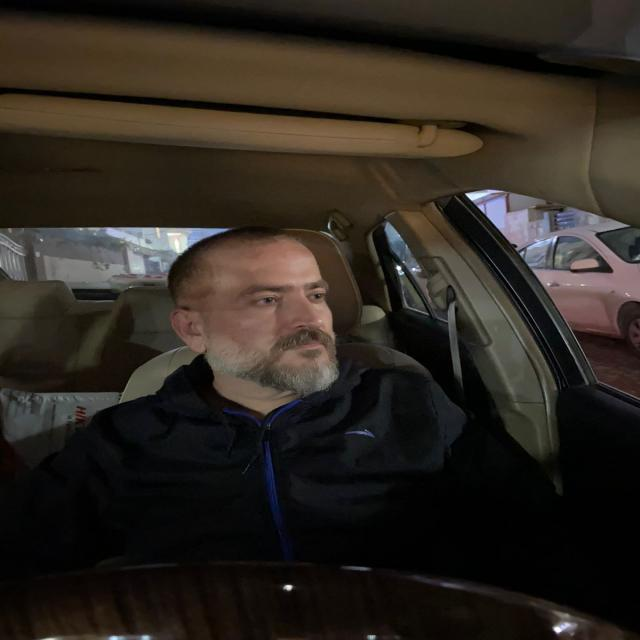person: (167, 223, 354, 396)
